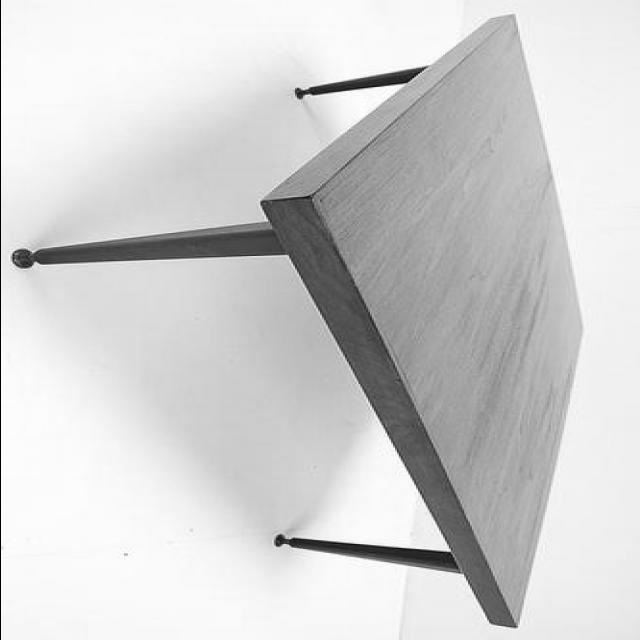table: (11, 14, 588, 628)
